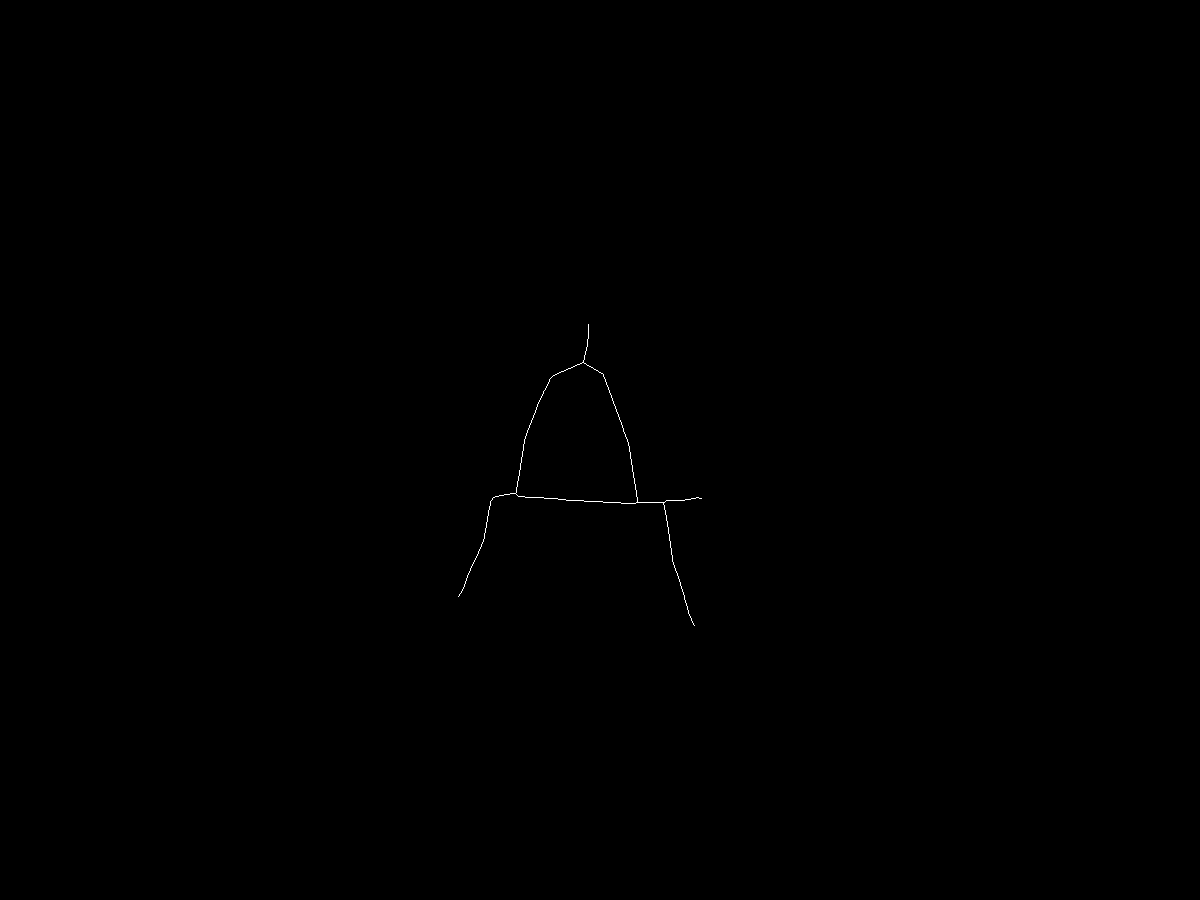dian1: (575, 349, 597, 371)
dian2: (511, 483, 532, 504)
dian3: (454, 586, 474, 606)
dian4: (625, 494, 651, 520)
dian5: (683, 616, 704, 637)
